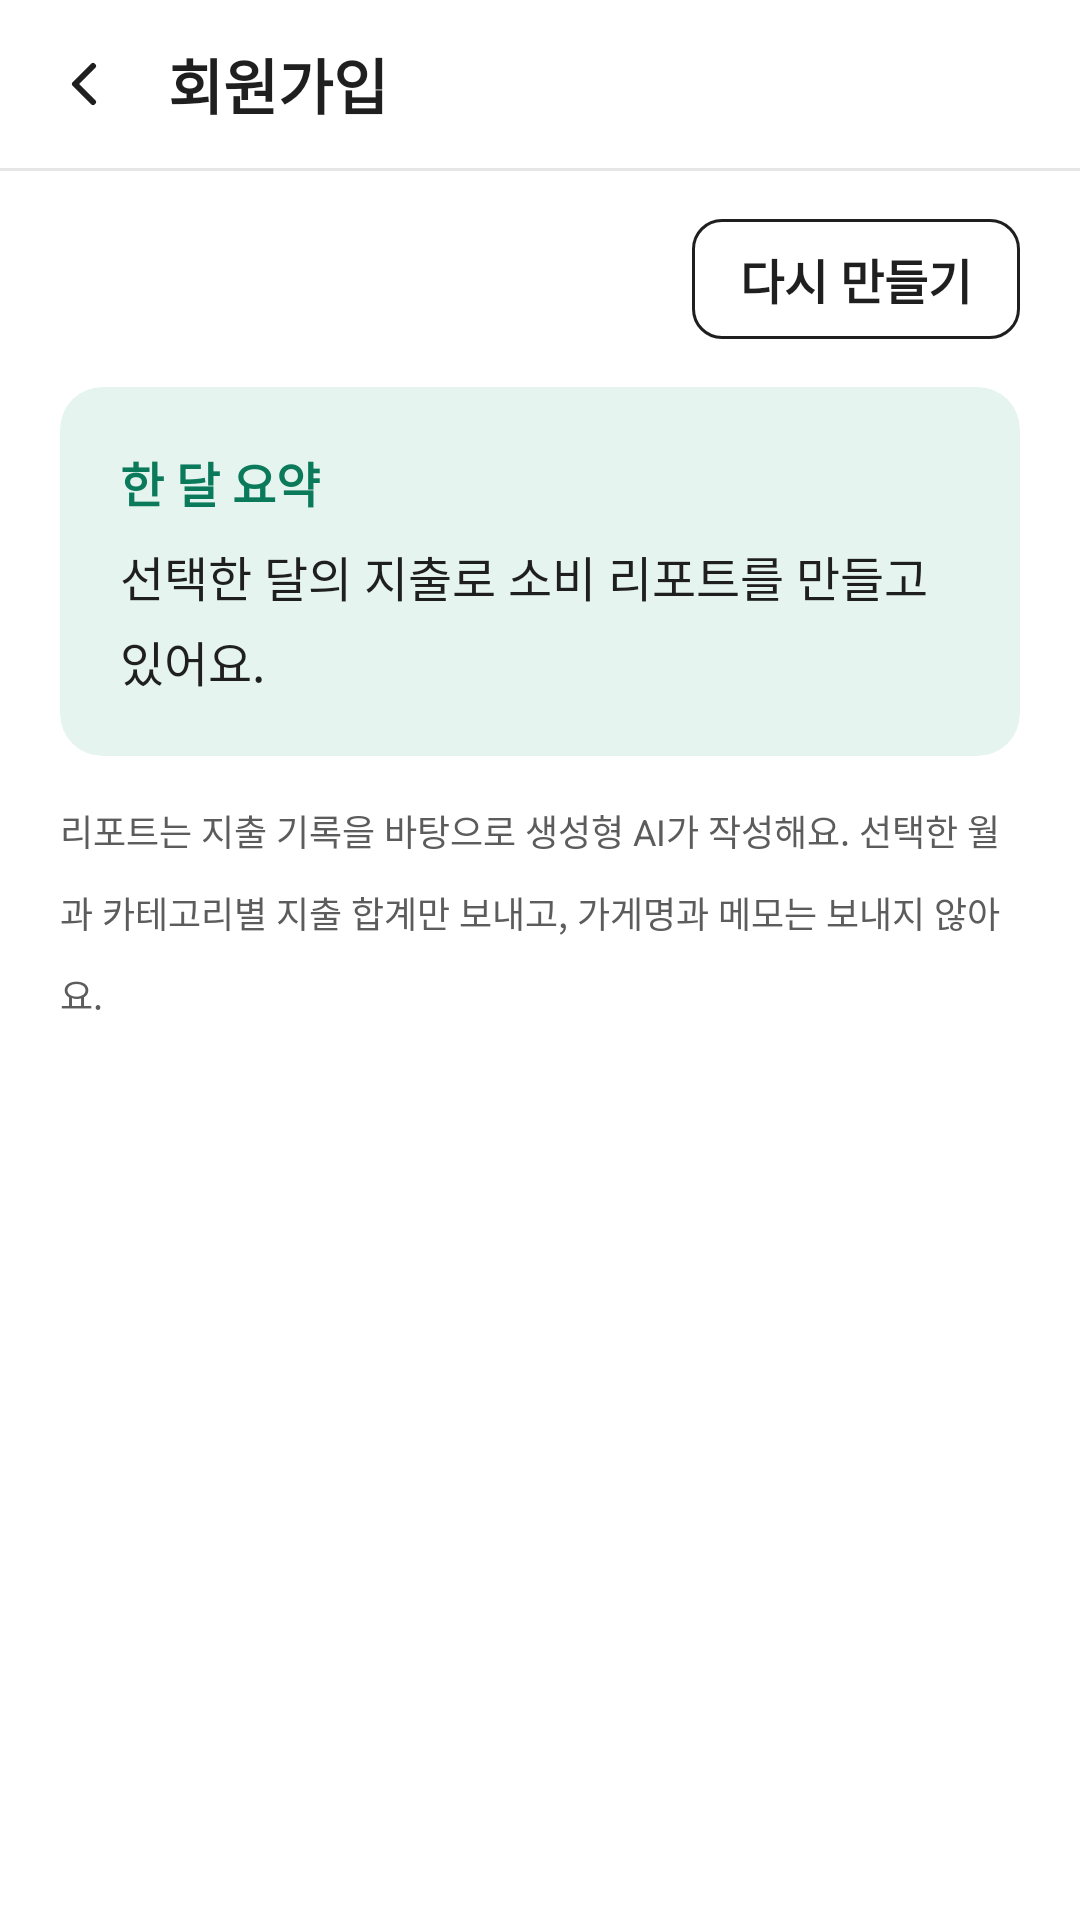

Screen size 1080x1920. Icon name, then its center in pixels as point (x, y):
뒤로 가기: point (84, 84)
